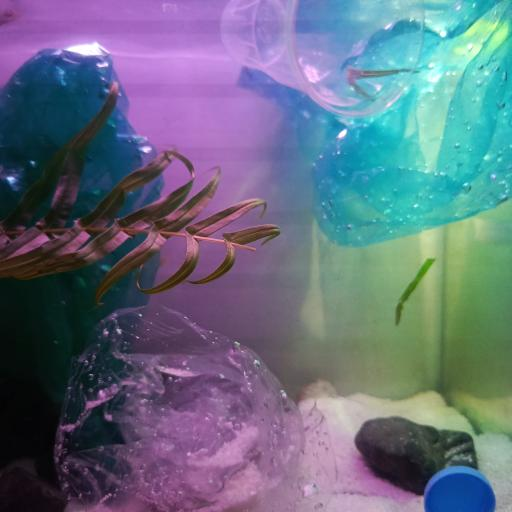bottle_cap: (421, 468, 494, 511)
plastic_bag: (236, 0, 512, 250), (0, 42, 164, 461), (54, 304, 338, 512)
plastic_cup: (220, 0, 426, 120)
